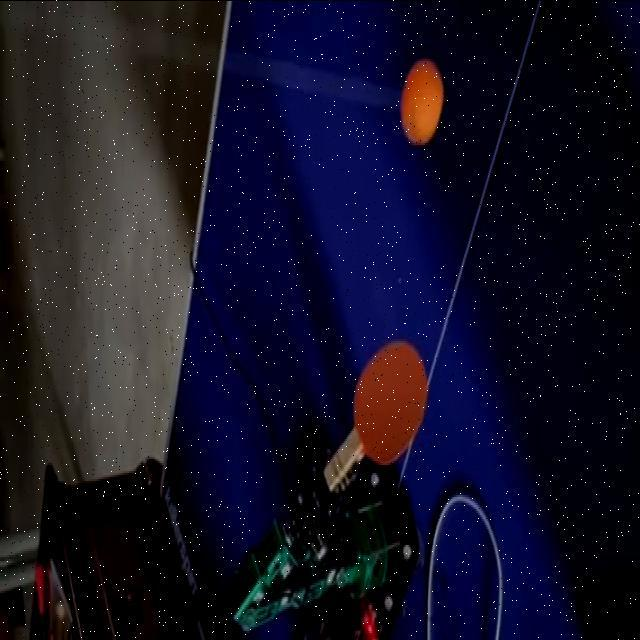ping-pong-ball: (404, 62, 440, 140)
